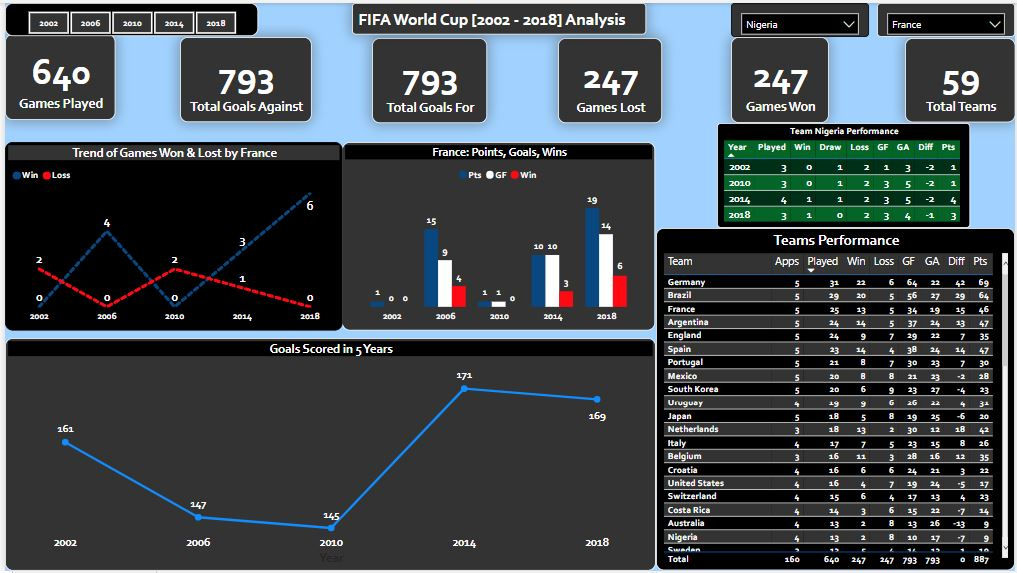

The page's visual inventory and layout, read from the dashboard file:
{"tool":"powerbi","page":{"name":"Page 1","canvas":[1280,720],"ordinal":0},"visuals":[{"type":"card","title":"Total Teams Played in 5 Years","fields":{"Values":["Calc.Total_Teams"]},"box":[1140.3,44,139.7,106.7],"z":0},{"type":"tableEx","title":"Teams Performance","fields":{"Values":["Fifa.Team","CountNonNull(Fifa.Year)","Sum(Fifa.Games Played)","Sum(Fifa.Win)","Sum(Fifa.Loss)","Sum(Fifa.Goals For)","Sum(Fifa.Goals Against)","Sum(Fifa.Goal Difference)","Sum(Fifa.Points)"]},"box":[824.7,284.8,455.3,434.4],"z":1000},{"type":"card","title":"Total Teams Played in 5 Years","fields":{"Values":["Sum(Fifa.Win)"]},"box":[920.4,42.9,124.3,108.9],"z":2000},{"type":"card","title":"Total Teams Played in 5 Years","fields":{"Values":["Sum(Fifa.Goals For)"]},"box":[465.2,44,146.3,107.8],"z":3000},{"type":"card","title":"Total Teams Played in 5 Years","fields":{"Values":["Sum(Fifa.Loss)"]},"box":[700.5,44,132,107.8],"z":4000},{"type":"card","title":"Total Teams Played in 5 Years","fields":{"Values":["Sum(Fifa.Goals Against)"]},"box":[222.1,42.9,167.1,107.8],"z":5000},{"type":"card","title":"Total Teams Played in 5 Years","fields":{"Values":["Sum(Fifa.Games Played)"]},"box":[0,39.6,139.7,108.9],"z":6000},{"type":"lineChart","title":"Goals Scored in 5 Years","fields":{"Category":["Fifa.Year"],"Y":["Sum(Fifa.Goals For)"]},"box":[0,424.5,824.7,294.7],"z":7000},{"type":"slicer","fields":{"Values":["Fifa.Year"]},"box":[0,0,321.1,41.8],"z":8000},{"type":"clusteredColumnChart","title":"France: Points, Goals, Wins","fields":{"Category":["Fifa.Year"],"Y":["Sum(Fifa.Points)","Sum(Fifa.Goals For)","Sum(Fifa.Win)"]},"box":[427.8,175.9,397,238.6],"z":9000},{"type":"slicer","fields":{"Values":["Fifa.Team"]},"box":[1105.2,0,174.8,42.9],"z":10000},{"type":"lineChart","title":"Trend of Games Won & Lost by France","fields":{"Y":["Sum(Fifa.Win)","Sum(Fifa.Loss)"],"Category":["Fifa.Year"]},"box":[0,175.9,427.8,238.6],"z":11000},{"type":"tableEx","title":"Team Nigeria Performance","fields":{"Values":["Fifa.Year","Sum(Fifa.Games Played)","Sum(Fifa.Win)","Sum(Fifa.Draw)","Sum(Fifa.Loss)","Sum(Fifa.Goals For)","Sum(Fifa.Goals Against)","Sum(Fifa.Goal Difference)","Sum(Fifa.Points)"]},"box":[902.8,151.8,321.1,133.1],"z":12000},{"type":"slicer","fields":{"Values":["Fifa.Team"]},"box":[920.4,0,174.8,42.9],"z":13000},{"type":"textbox","box":[439.9,0,372.8,39.6],"z":14000}]}

Visuals, with their boxes in screenshot pixels (x1, y1, x2, y2), scaled from the page's 1280x720 canvas onto the 1017x573 screenshot:
"Total Teams Played in 5 Years" card: (left=906, top=35, right=1016, bottom=120)
"Teams Performance" tableEx: (left=655, top=227, right=1016, bottom=572)
"Total Teams Played in 5 Years" card: (left=731, top=34, right=830, bottom=121)
"Total Teams Played in 5 Years" card: (left=370, top=35, right=486, bottom=121)
"Total Teams Played in 5 Years" card: (left=557, top=35, right=661, bottom=121)
"Total Teams Played in 5 Years" card: (left=176, top=34, right=309, bottom=120)
"Total Teams Played in 5 Years" card: (left=0, top=32, right=111, bottom=118)
"Goals Scored in 5 Years" lineChart: (left=0, top=338, right=655, bottom=572)
slicer - Fifa.Year: (left=0, top=0, right=255, bottom=33)
"France: Points, Goals, Wins" clusteredColumnChart: (left=340, top=140, right=655, bottom=330)
slicer - Fifa.Team: (left=878, top=0, right=1016, bottom=34)
"Trend of Games Won & Lost by France" lineChart: (left=0, top=140, right=340, bottom=330)
"Team Nigeria Performance" tableEx: (left=717, top=121, right=972, bottom=227)
slicer - Fifa.Team: (left=731, top=0, right=870, bottom=34)
textbox: (left=350, top=0, right=646, bottom=32)
